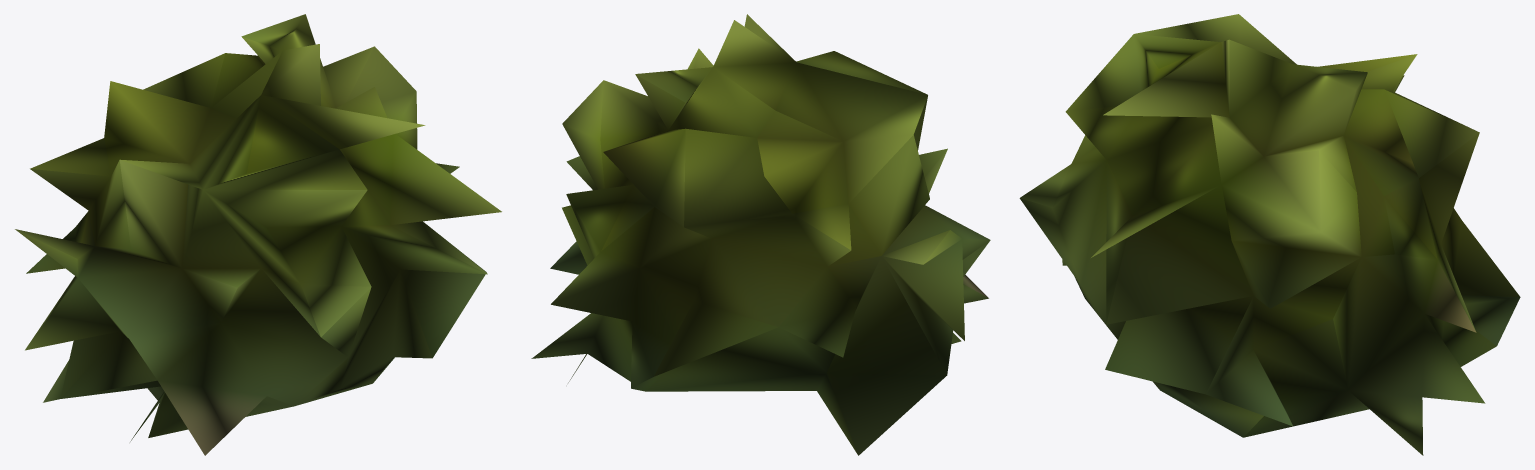
Rendered from env-bush.lod.glb.
3 views of the same model, side by side, from view 1: azimuth 30°, elevation 25°; view 2: azimuth 150°, elevation 25°; view 3: azimuth 270°, elevation 25° (orthographic). The views are drawn at different scales.
Parts seen in each view (by area): view 1: tripo_node_eec9e25f-6da2-4b9d-87eb-b2f38925eb1d; view 2: tripo_node_eec9e25f-6da2-4b9d-87eb-b2f38925eb1d; view 3: tripo_node_eec9e25f-6da2-4b9d-87eb-b2f38925eb1d.
Part boxes in pixels (x1,y1,x2,y2): tripo_node_eec9e25f-6da2-4b9d-87eb-b2f38925eb1d: [15, 14, 501, 455]; tripo_node_eec9e25f-6da2-4b9d-87eb-b2f38925eb1d: [531, 14, 990, 455]; tripo_node_eec9e25f-6da2-4b9d-87eb-b2f38925eb1d: [1019, 14, 1520, 455].
Bounding box in the file's own units: 0.9698 × 0.7678 × 0.908.
